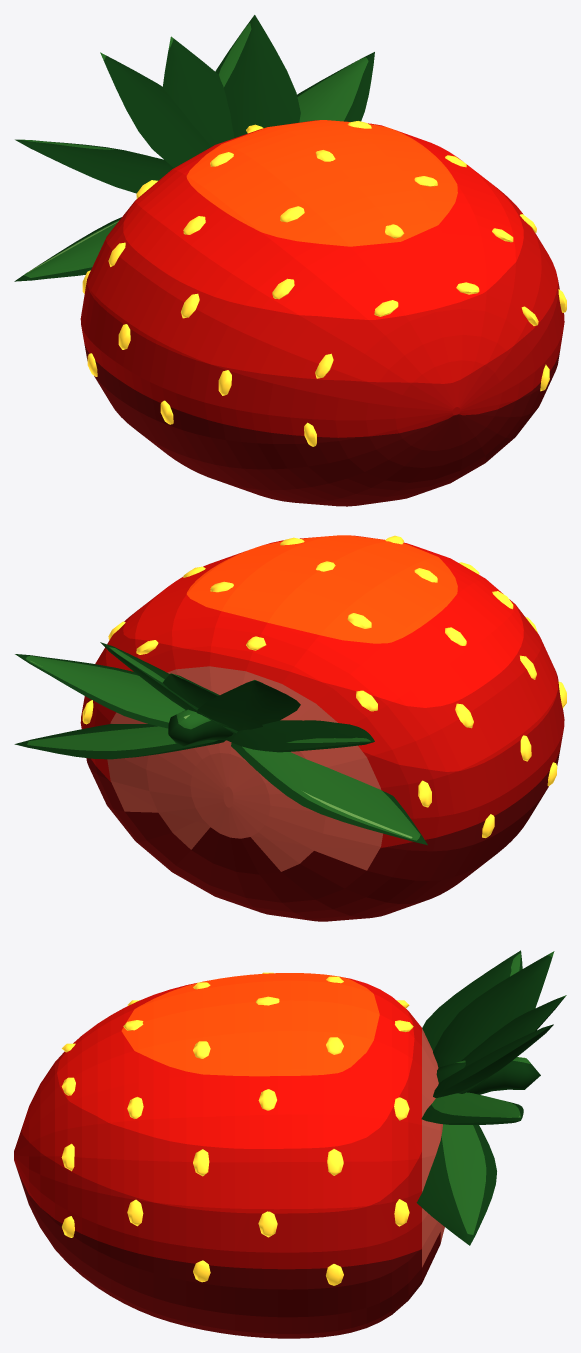
The model's file is strawberry.glb.
3 views of the same model, one above another, from view 1: azimuth 30°, elevation 25°; view 2: azimuth 150°, elevation 25°; view 3: azimuth 270°, elevation 25° (orthographic). The views are drawn at different scales.
Parts seen in each view (by area): view 1: strawberry; view 2: strawberry; view 3: strawberry.
Part boxes in pixels (box(x1,y1,x2,y2)): strawberry: box(14, 15, 566, 506); strawberry: box(14, 535, 566, 921); strawberry: box(14, 950, 566, 1338).
Bounding box in the file's own units: 12.43 × 9.58 × 14.84.
